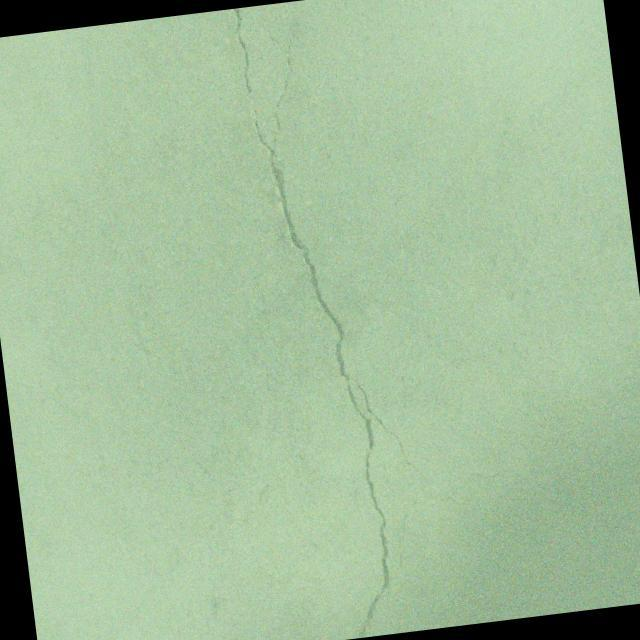crack: (232, 0, 533, 640), (526, 474, 584, 501)
